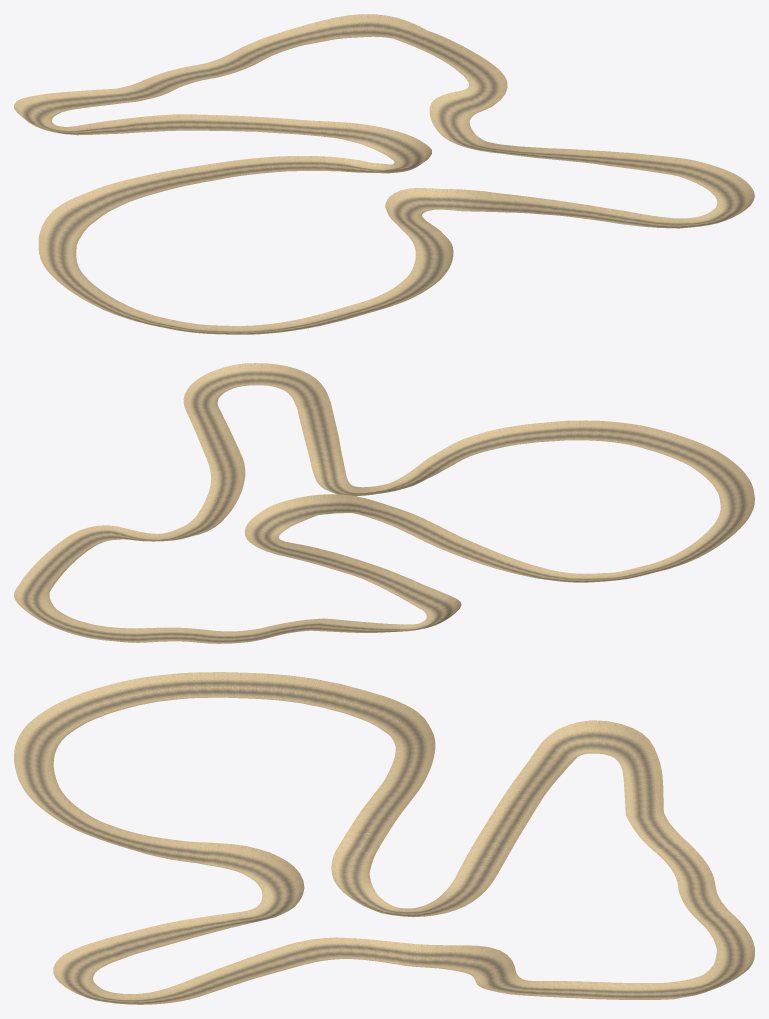
The model's file is road.obj.
3 views of the same model, one above another, from view 1: azimuth 30°, elevation 25°; view 2: azimuth 150°, elevation 25°; view 3: azimuth 270°, elevation 25° (orthographic). The views are drawn at different scales.
Parts seen in each view (by area): view 1: track; view 2: track; view 3: track.
Boxes of the visible parts, <box> form: track: <box>14,14,754,334</box>; track: <box>14,363,754,643</box>; track: <box>14,672,754,1004</box>.
Bounding box in the file's own units: 191 × 16.13 × 185.
1 material, 1 textured.
